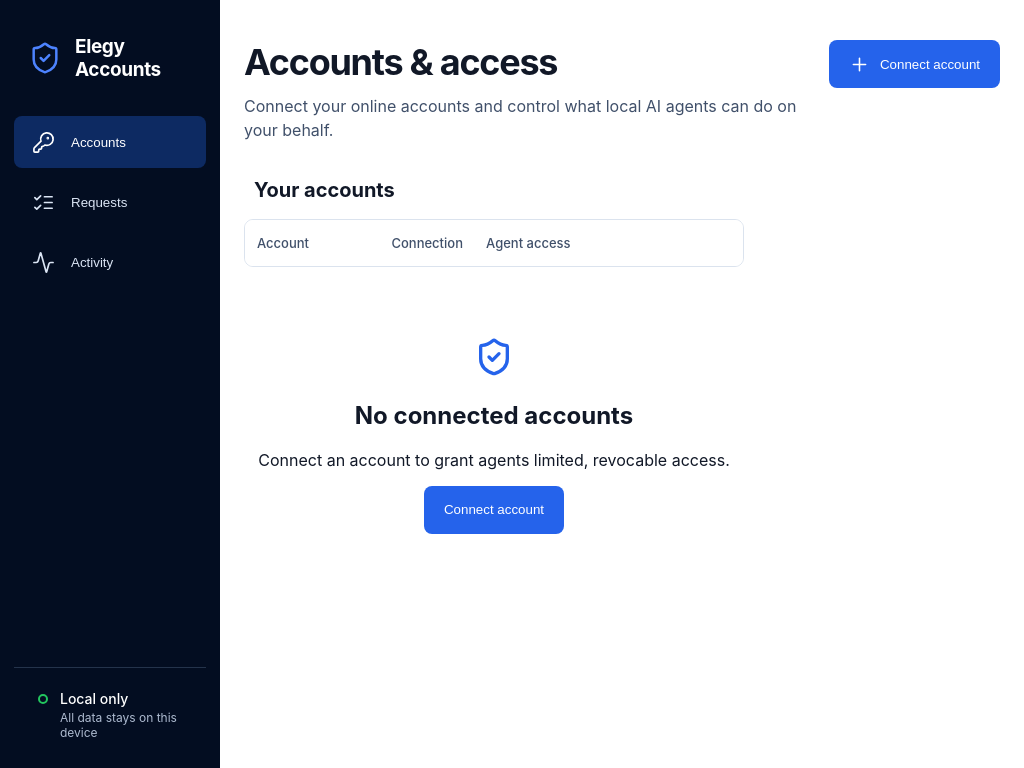
Scenario: Account Center › shows a provider device code without exposing the private device credential
Click the button "Connect account" in the row of "Accounts & access".
click(914, 64)  # box 829,40 -> 1000,88
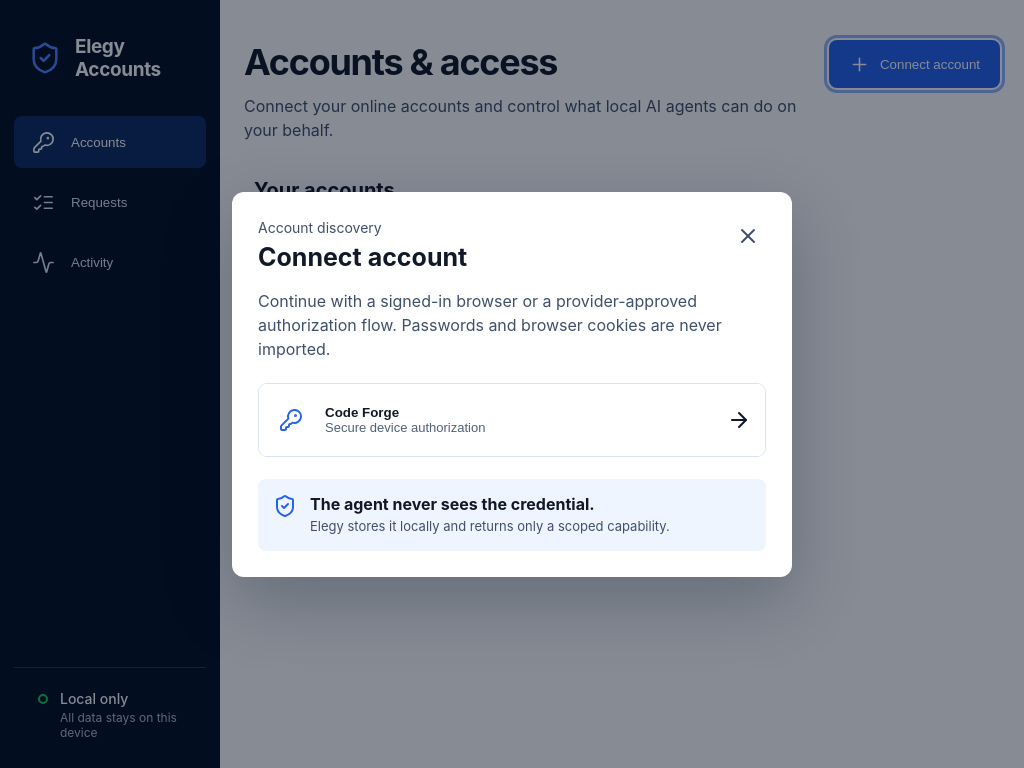
Click the button with aria-label "Continue with Code Forge".
click(362, 412)  # box 259,384 -> 765,456
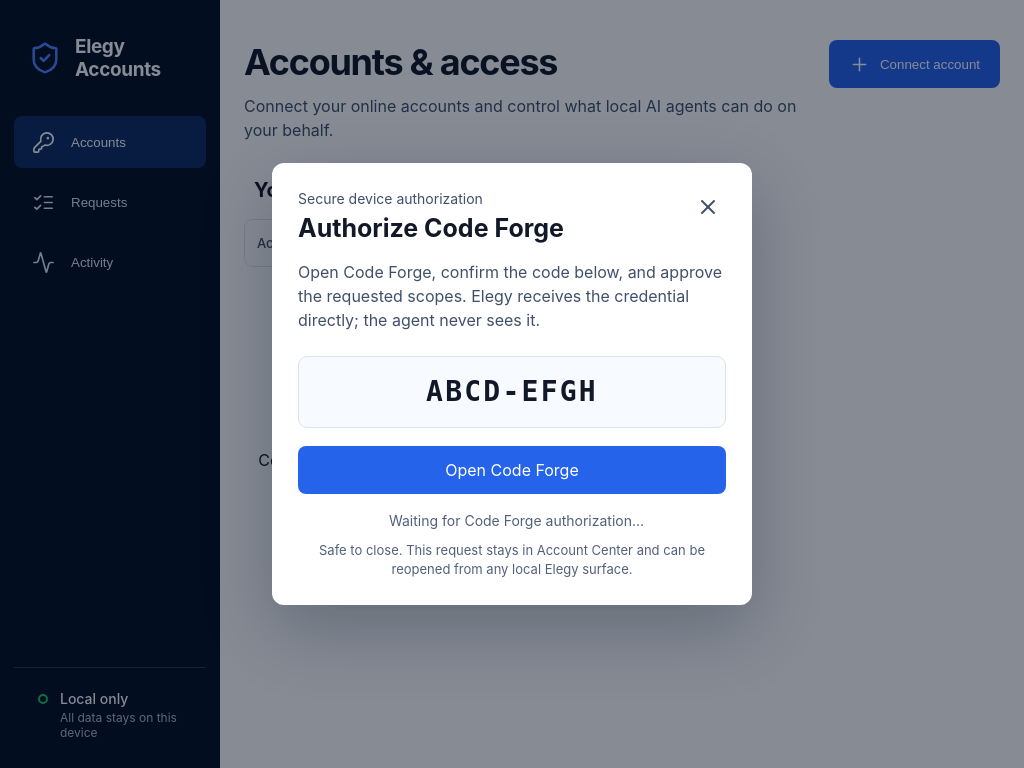
Result: the text "ABCD-EFGH" is shown at 298,356 -> 726,428
